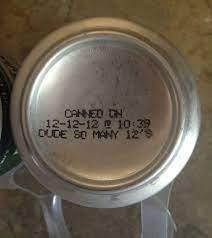metal: (9, 20, 198, 204)
